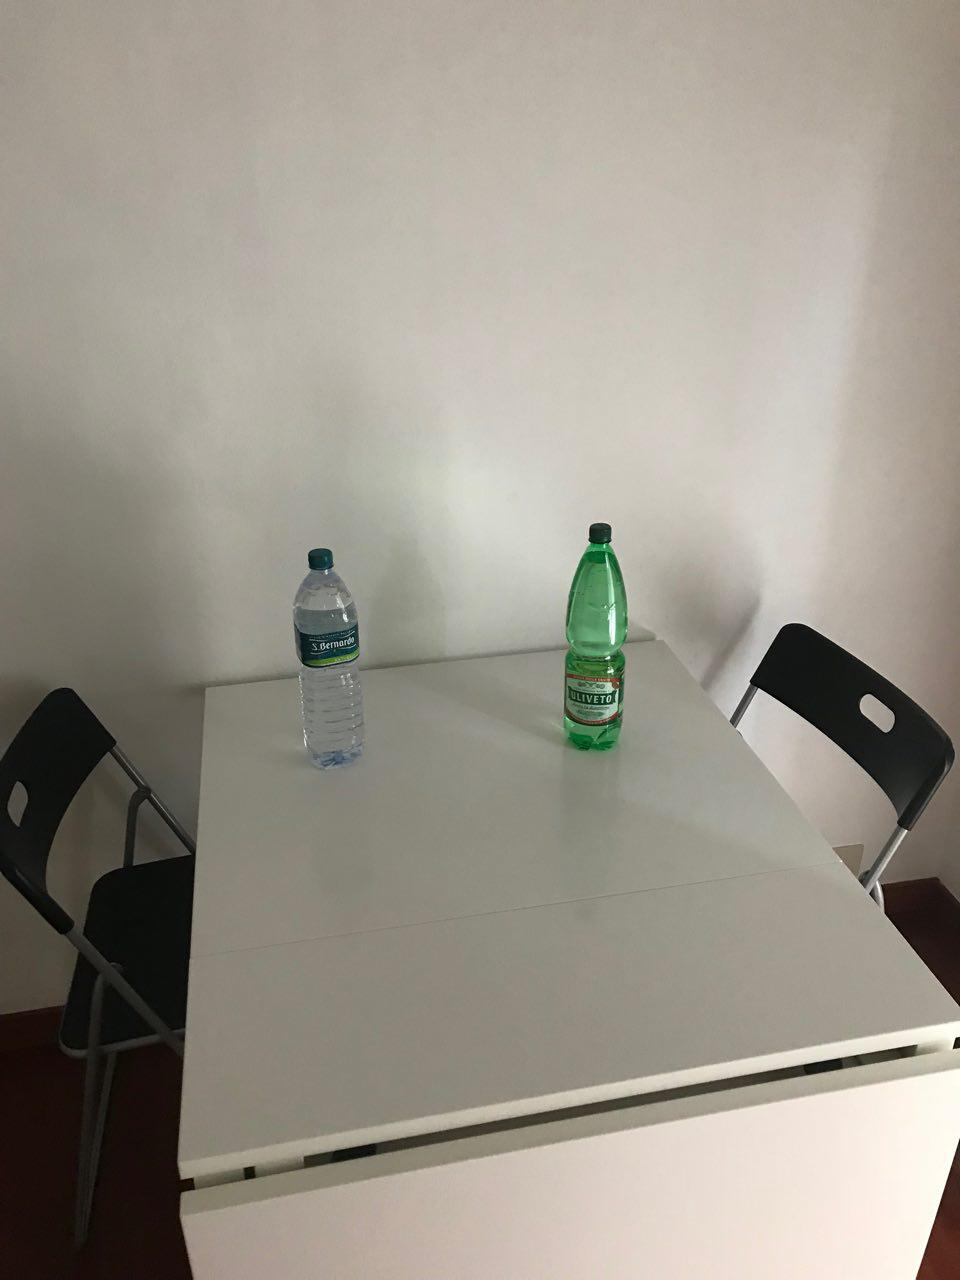san_bernardo: (291, 547, 366, 771)
